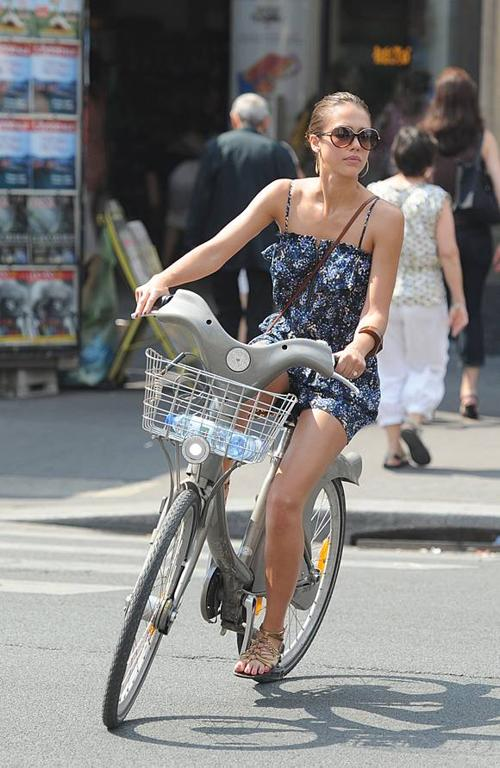person: (134, 91, 404, 679)
